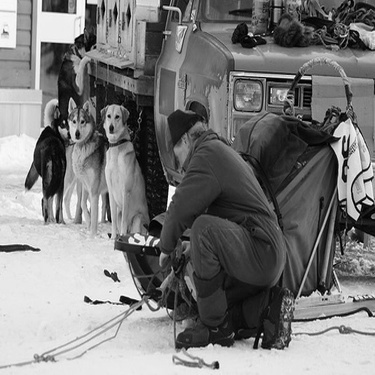dog: (93, 100, 154, 245), (58, 97, 109, 235), (18, 104, 68, 231), (46, 29, 97, 124), (42, 90, 59, 130), (1, 240, 41, 257)
